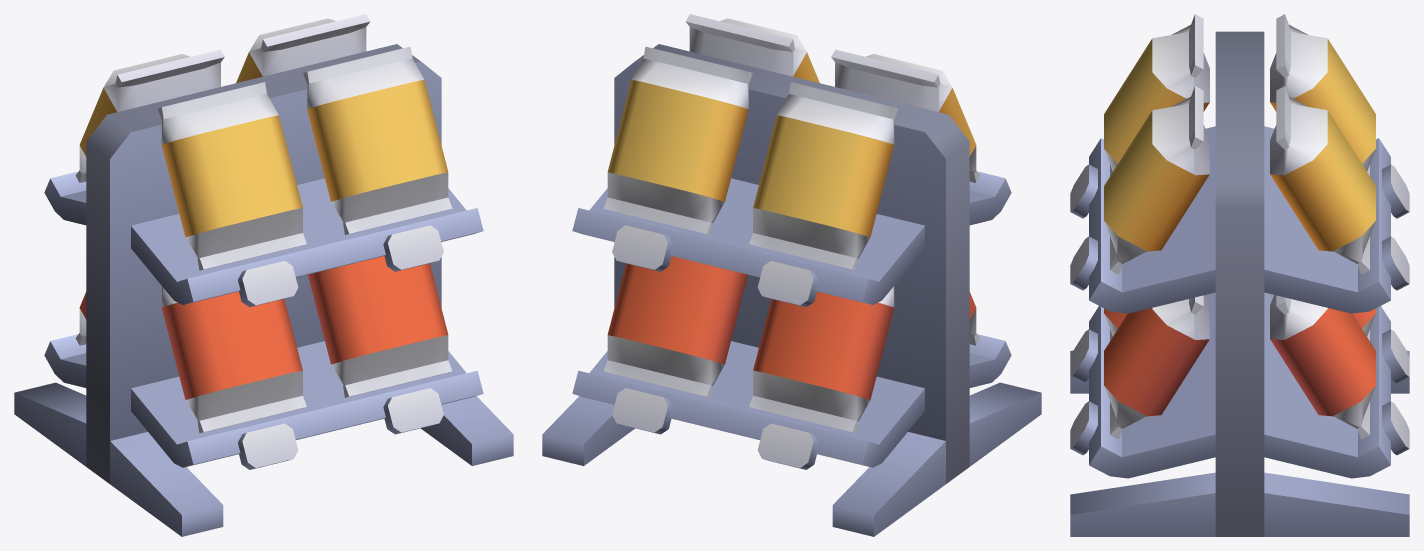
Rendered from shelf-bags.fbx.
3 renders of one model, left to right at view 1: azimuth 30°, elevation 25°; view 2: azimuth 150°, elevation 25°; view 3: azimuth 270°, elevation 25°, orthographic.
Parts seen in each view (by area): view 1: shelf-bags, bag_1, bag, bag_3, bag_2, bag_4, bag_5; view 2: shelf-bags, bag_4, bag_5, bag_6, bag_7, bag_1, bag; view 3: shelf-bags, bag, bag_5, bag_2, bag_7, bag_1, bag_4.
Part boxes in pixels (x1=…): shelf-bags: x1=14, y1=44, x2=513, y2=536; bag_1: x1=157, y1=82, x2=306, y2=270; bag: x1=303, y1=46, x2=452, y2=234; bag_3: x1=161, y1=286, x2=306, y2=433; bag_2: x1=308, y1=256, x2=451, y2=397; bag_4: x1=75, y1=49, x2=224, y2=182; bag_5: x1=236, y1=14, x2=370, y2=82; shelf-bags: x1=542, y1=44, x2=1041, y2=536; bag_4: x1=749, y1=82, x2=898, y2=270; bag_5: x1=603, y1=46, x2=752, y2=234; bag_6: x1=749, y1=286, x2=894, y2=433; bag_7: x1=604, y1=256, x2=747, y2=397; bag_1: x1=831, y1=49, x2=980, y2=182; bag: x1=685, y1=14, x2=819, y2=82; shelf-bags: x1=1070, y1=31, x2=1409, y2=536; bag: x1=1104, y1=86, x2=1209, y2=274; bag_5: x1=1270, y1=86, x2=1375, y2=274; bag_2: x1=1104, y1=295, x2=1209, y2=439; bag_7: x1=1270, y1=295, x2=1375, y2=439; bag_1: x1=1104, y1=14, x2=1209, y2=175; bag_4: x1=1270, y1=14, x2=1375, y2=175.
Size of the model in its own units: 80 by 86.34 by 70.
Materials: 1 (1 with a texture image).
